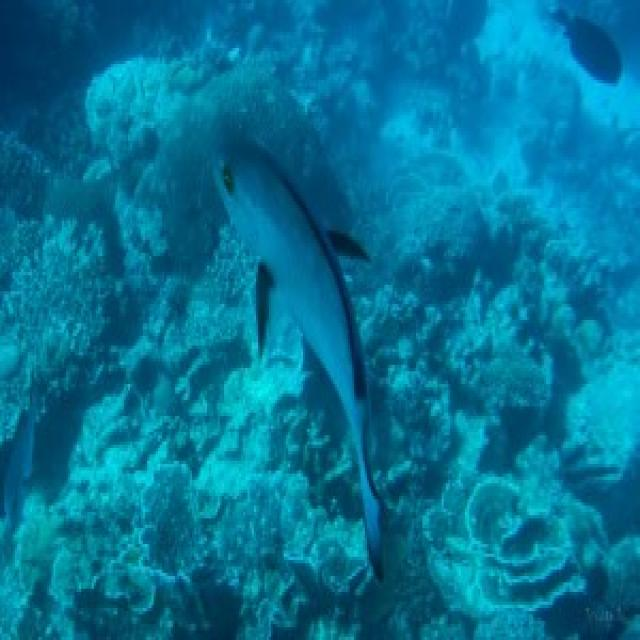Bleached: (199, 363, 300, 494), (86, 59, 184, 151), (76, 398, 170, 471)
Healthy: (426, 475, 639, 631), (1, 222, 118, 417)
